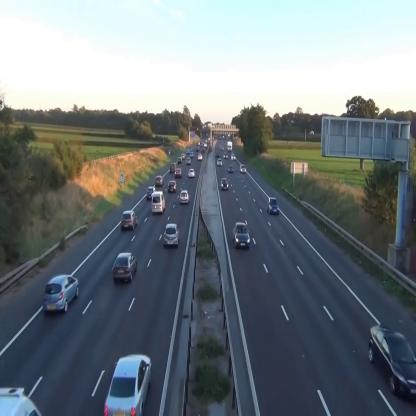car: (367, 323, 416, 403), (104, 350, 152, 416), (43, 274, 80, 313), (112, 252, 138, 282), (233, 222, 250, 249), (164, 223, 180, 247), (121, 211, 138, 230), (152, 192, 166, 212), (266, 197, 279, 214), (179, 190, 190, 203), (147, 186, 155, 199), (168, 181, 177, 192), (155, 174, 163, 186), (221, 178, 228, 189), (174, 167, 182, 176), (217, 158, 223, 167), (240, 164, 246, 173), (188, 169, 194, 177), (228, 165, 234, 172)
